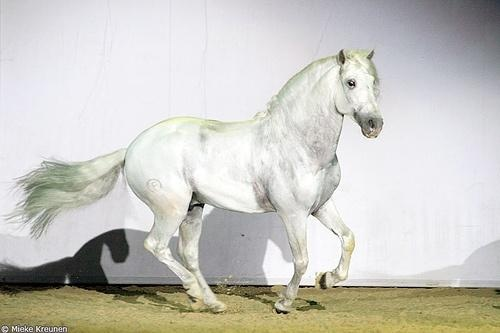horse: (19, 47, 384, 313)
